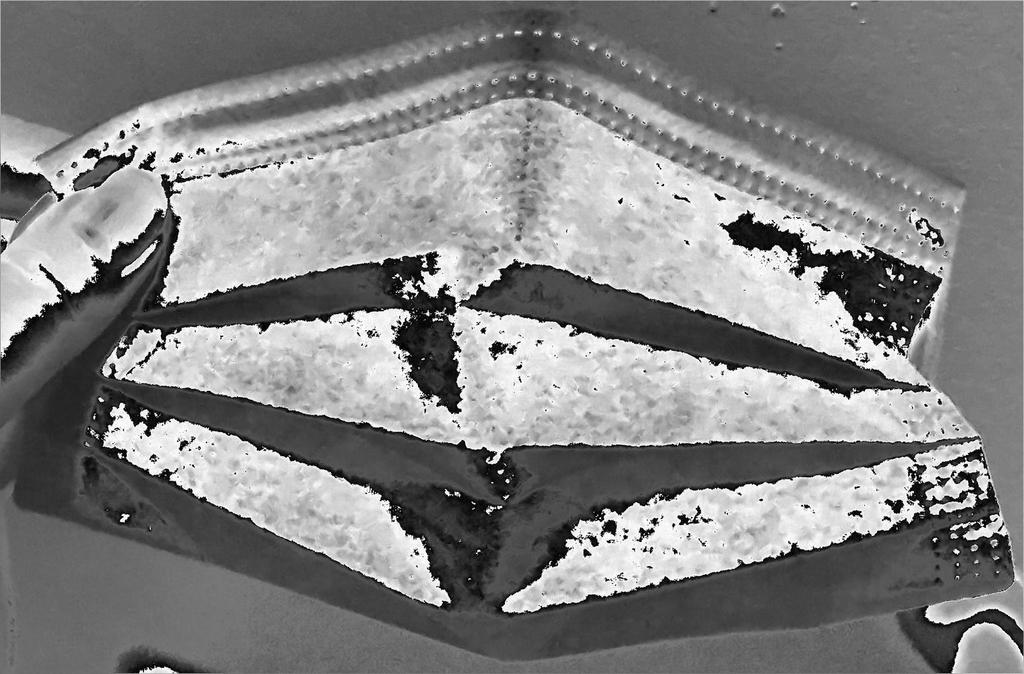High GSM: (178, 120, 917, 625)
